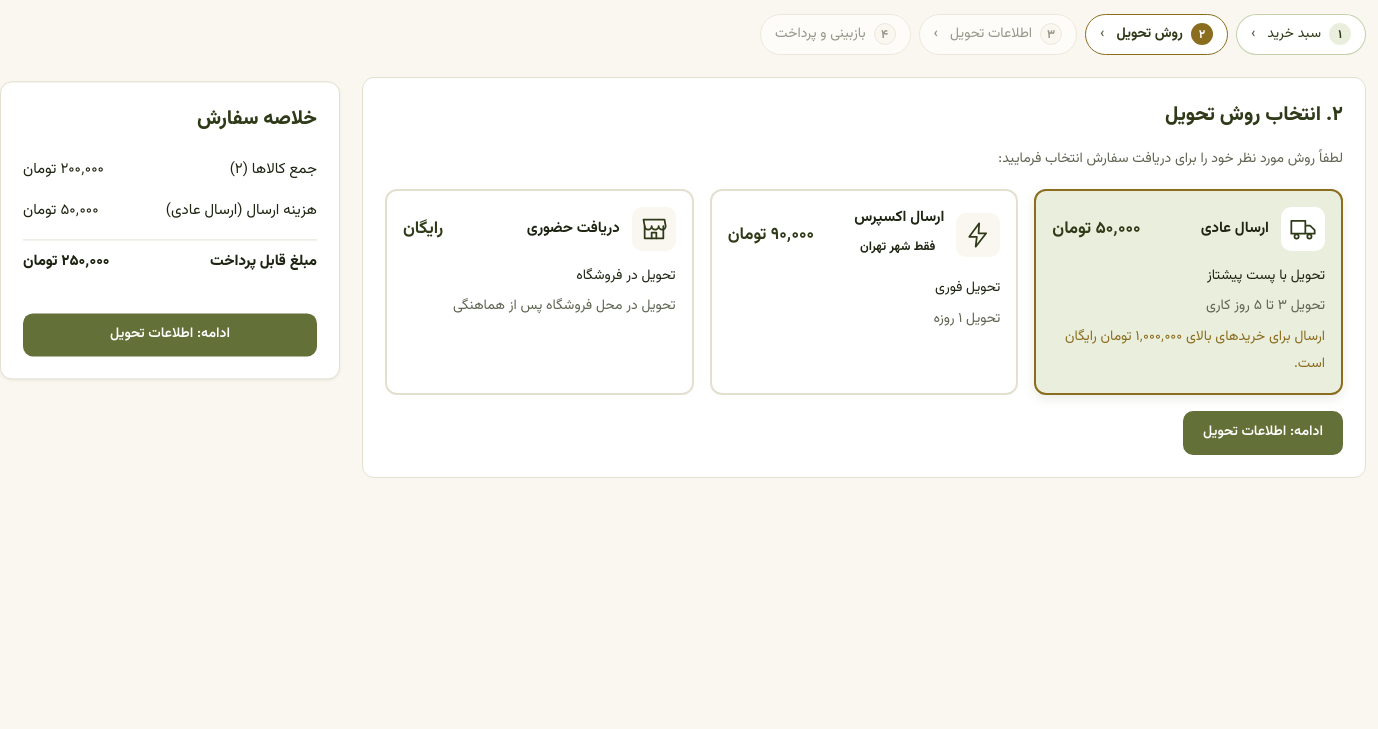
Test case: no single-page checkout (the cart's step must never be skipped) › shows the coupon field only on the review step
The image size is (1378, 729).
expect the heading "۲. انتخاب روش تحویل" is shown: met, box [1165,99,1343,131]
Click the button "ادامه: اطلاعات تحویل" below "ارسال برای خریدهای بالای": (1263, 433) [1183,411,1343,455]
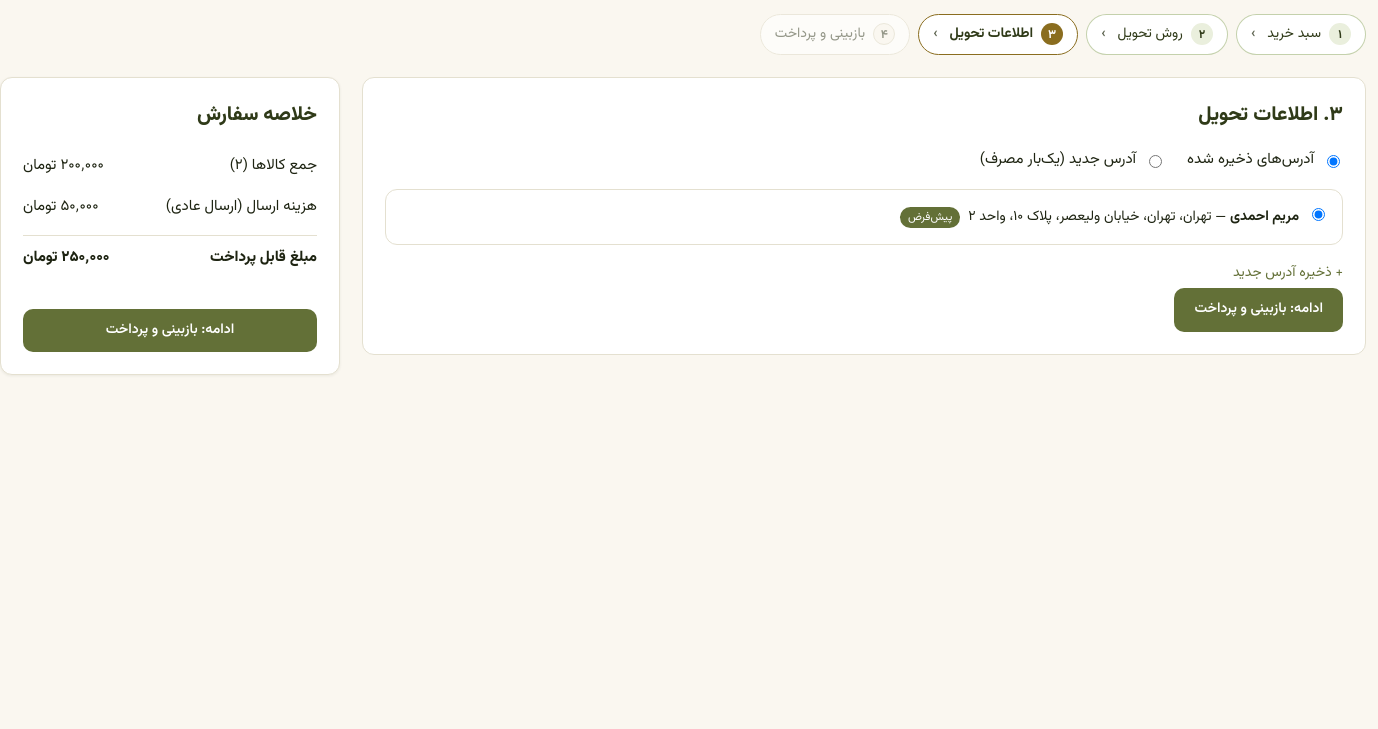
expect the heading "۳. اطلاعات تحویل" is shown: met, box [1198,99,1343,131]
Click the button "ادامه: بازبینی و پرداخت" below "مریم احمدی": (1259, 310) [1174,288,1343,332]
(page scrolled)
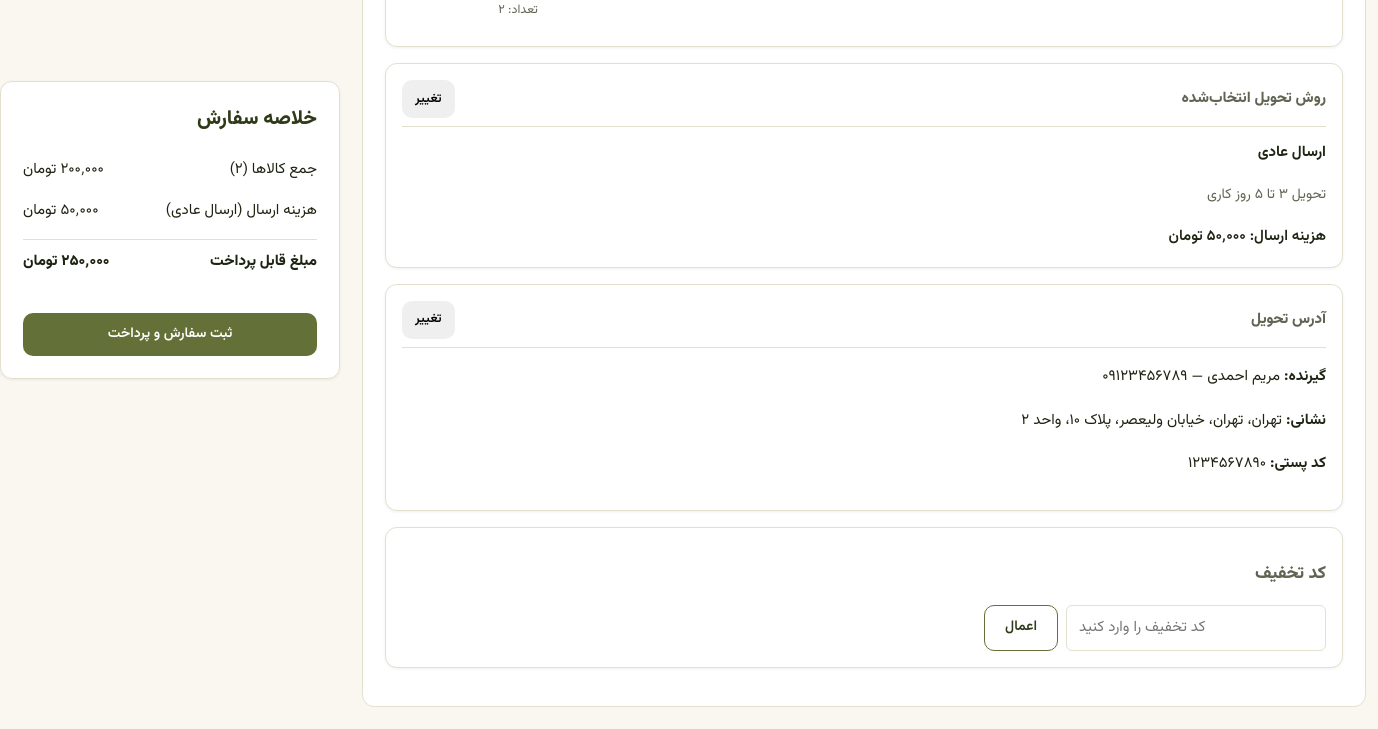
expect the field with id "checkout-coupon" is shown: met, box [1066,605,1326,651]
